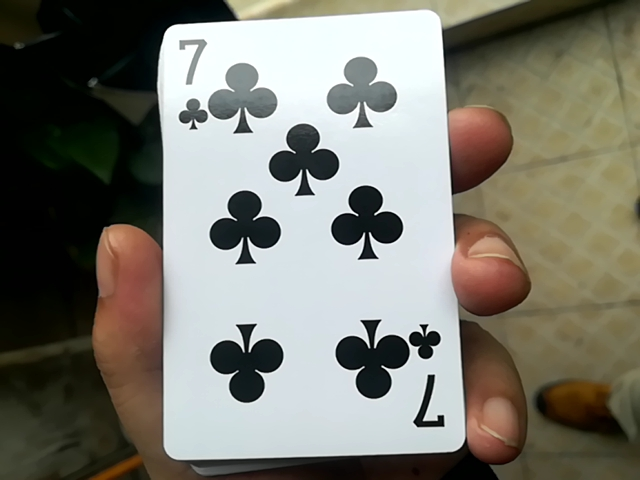mh 7: (141, 12, 464, 462)
